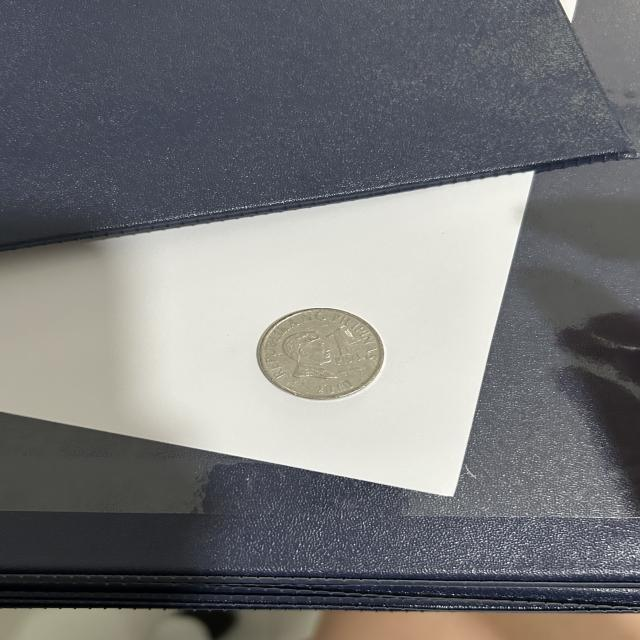1_Old_Front: (320, 327, 363, 370)
